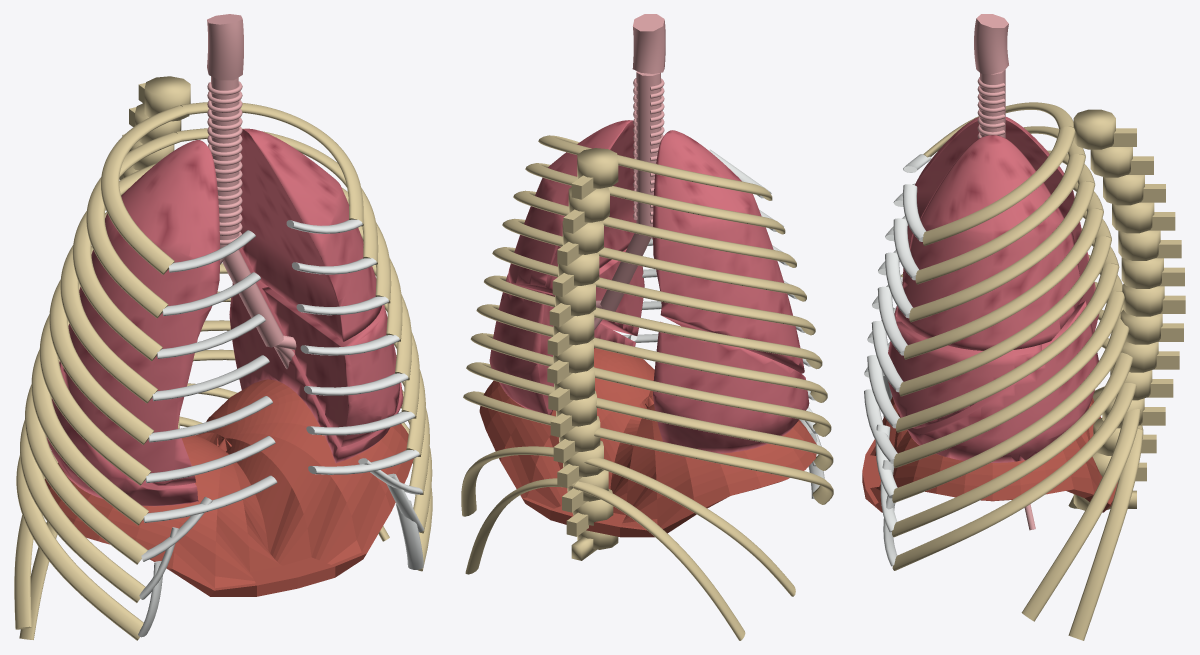
File: respiratory-DtFCvgEi.glb
3 renders of one model, left to right at view 1: azimuth 30°, elevation 25°; view 2: azimuth 150°, elevation 25°; view 3: azimuth 270°, elevation 25°, orthographic. The views are drawn at different scales.
Parts seen in each view (by area): view 1: ribcage, lungs, diaphragm, airway, spine; view 2: ribcage, lungs, diaphragm, spine, airway; view 3: ribcage, lungs, spine, diaphragm, airway.
Part boxes in pixels (x1,y1,x2,y2): ribcage: (14,102,432,640); lungs: (46,128,403,506); diaphragm: (45,379,413,596); airway: (207,14,296,368); spine: (119,76,190,428); ribcage: (461,135,833,640); lungs: (489,120,809,453); diaphragm: (479,348,816,537); spine: (547,148,618,560); airway: (594,14,665,329); ribcage: (864,102,1143,640); lungs: (888,117,1099,462); spine: (1073,109,1185,510); diaphragm: (862,397,1117,512); airway: (974,14,1035,530).
Size of the model in its own units: 1.79 by 2.76 by 1.46.
